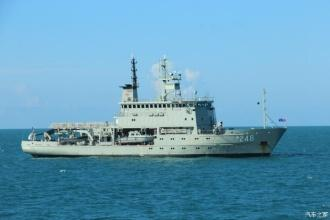warship: (13, 58, 295, 164)
